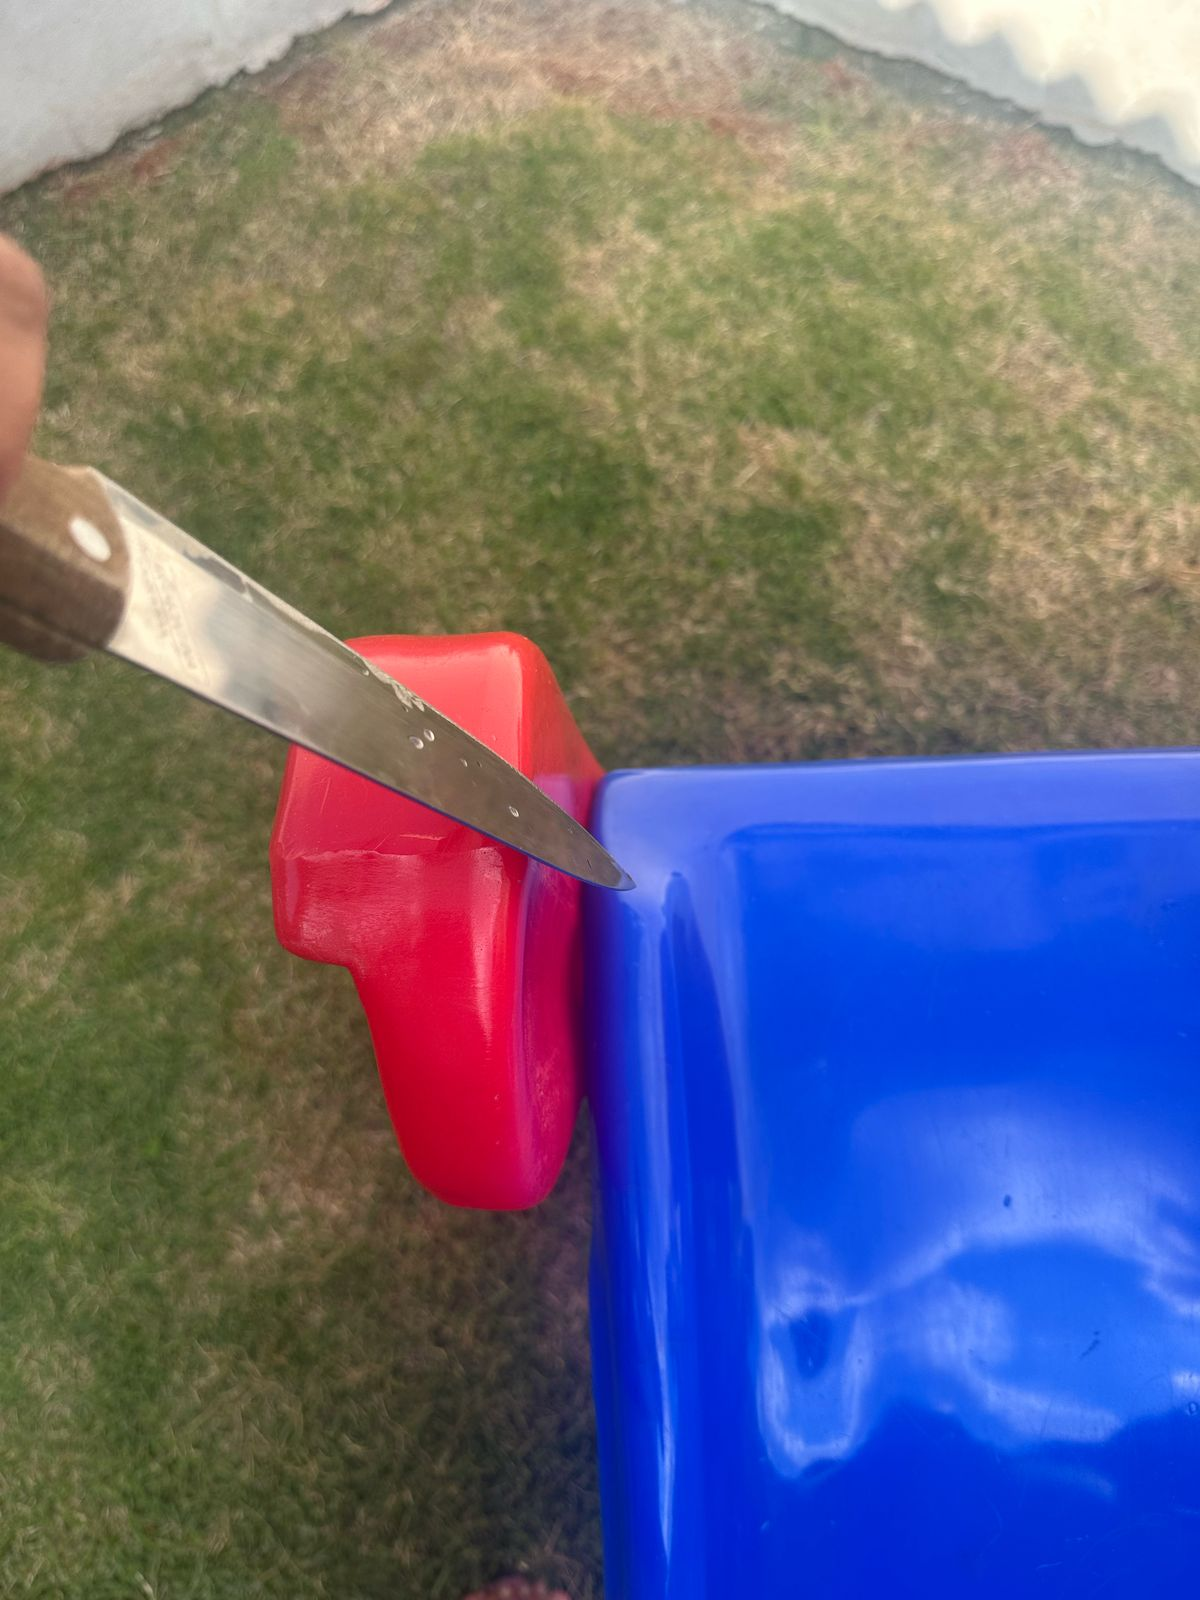faca: (37, 451, 647, 905)
